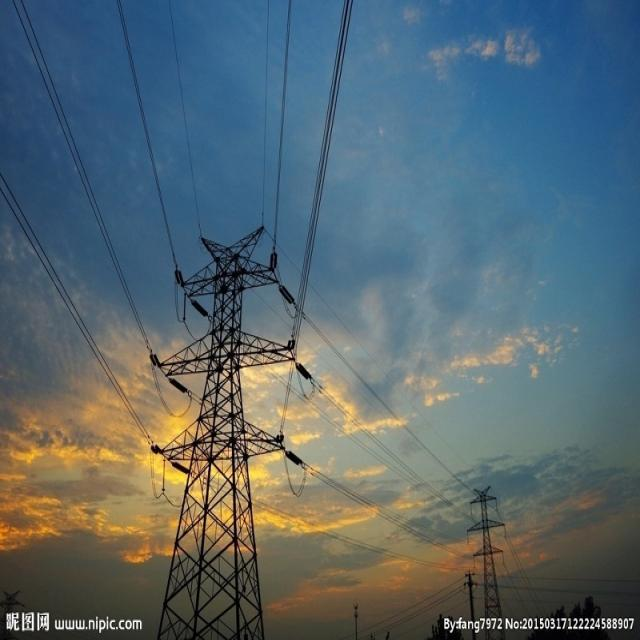non-critical vegetation: (144, 216, 314, 635), (461, 480, 512, 614)
